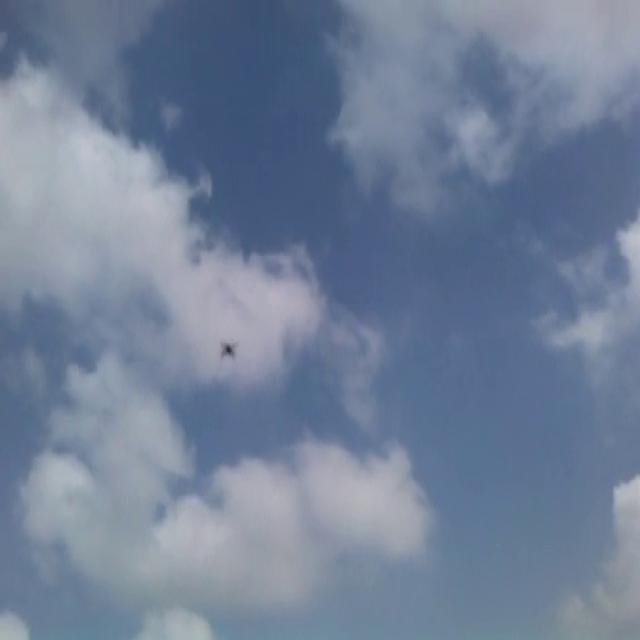drone: (215, 334, 239, 360)
